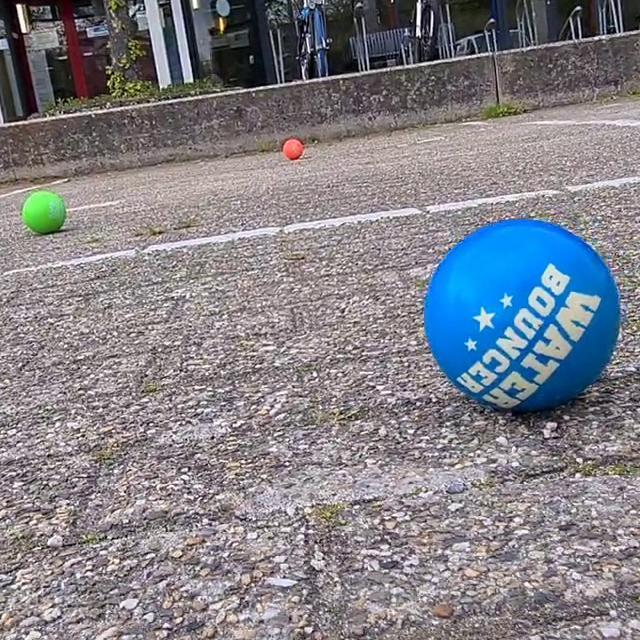ball: (20, 189, 68, 236), (278, 135, 306, 162)
